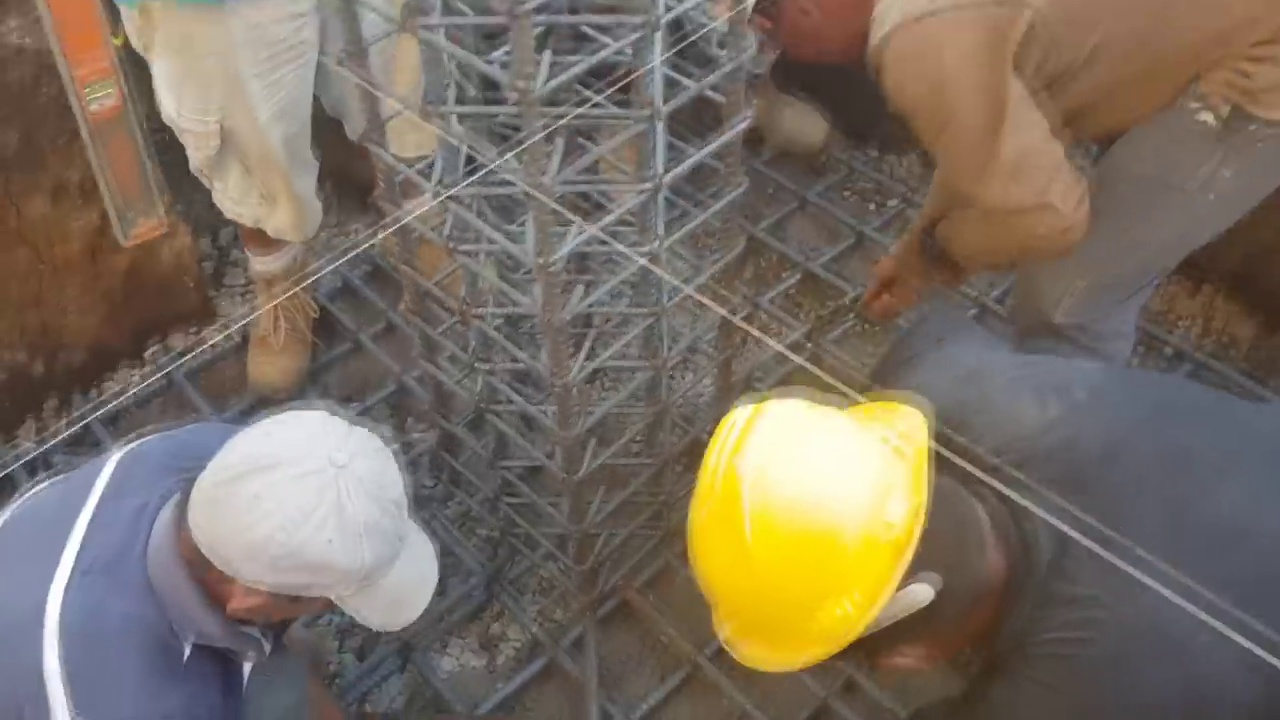helmet: (685, 408, 934, 683)
helmet-off: (182, 418, 438, 653), (709, 0, 886, 75)
helmet-on: (681, 381, 1033, 702)
person: (674, 308, 1278, 716), (710, 2, 1280, 352), (99, 0, 469, 393), (2, 401, 435, 719)
